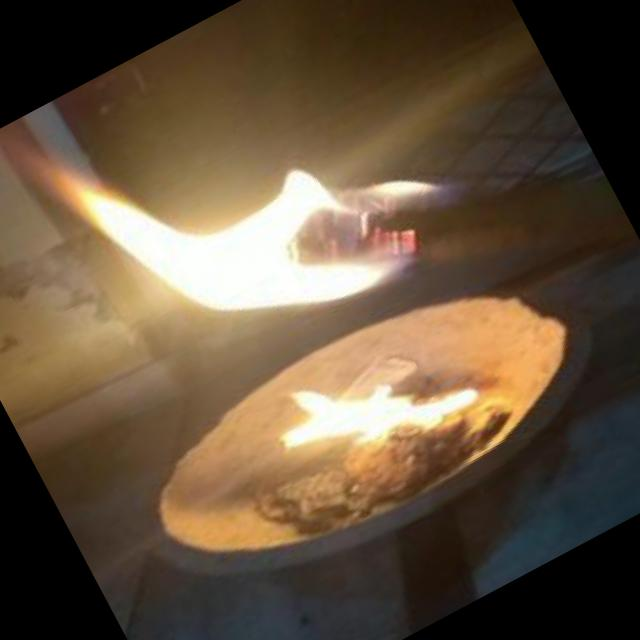fire: (9, 0, 462, 421), (254, 318, 475, 498)
